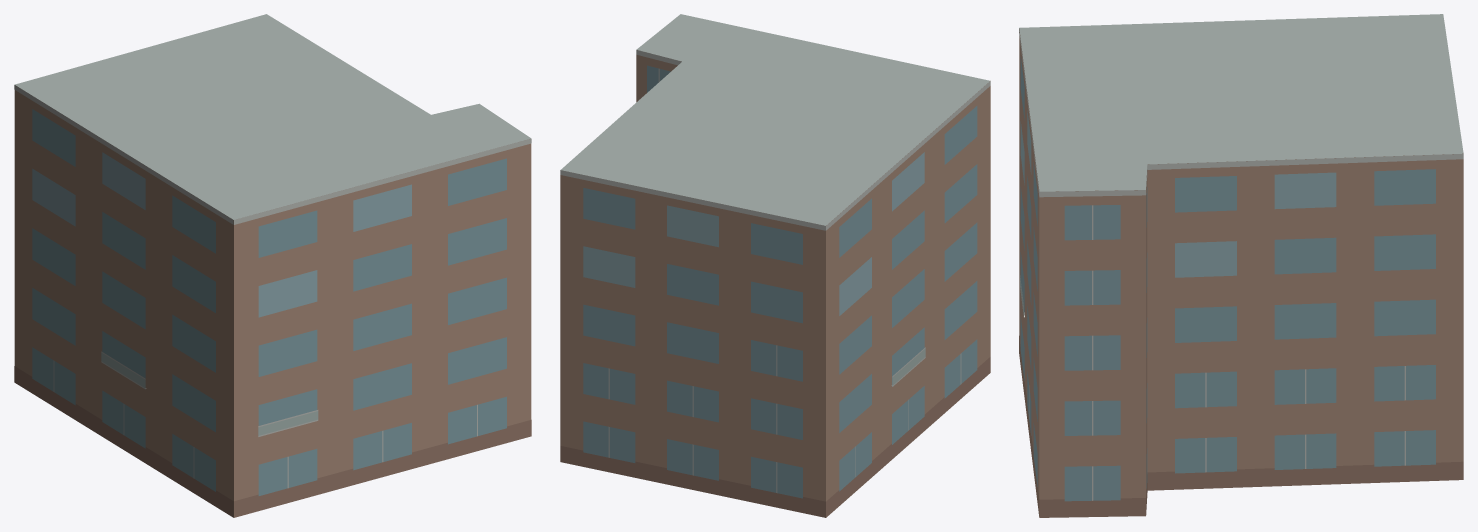
File: survey-upis-32723358.glb
3 renders of one model, left to right at view 1: azimuth 30°, elevation 25°; view 2: azimuth 150°, elevation 25°; view 3: azimuth 270°, elevation 25°, orthographic. The views are drawn at different scales.
Visible parts, largest first — view 1: survey-upis-32723358.tmp; view 2: survey-upis-32723358.tmp; view 3: survey-upis-32723358.tmp.
Boxes of the visible parts, box(x1,y1,x2,y2) form: survey-upis-32723358.tmp: box(14, 14, 531, 517); survey-upis-32723358.tmp: box(560, 14, 990, 517); survey-upis-32723358.tmp: box(1019, 14, 1463, 517).
Size of the model in its own units: 16.95 by 14.5 by 17.92.
